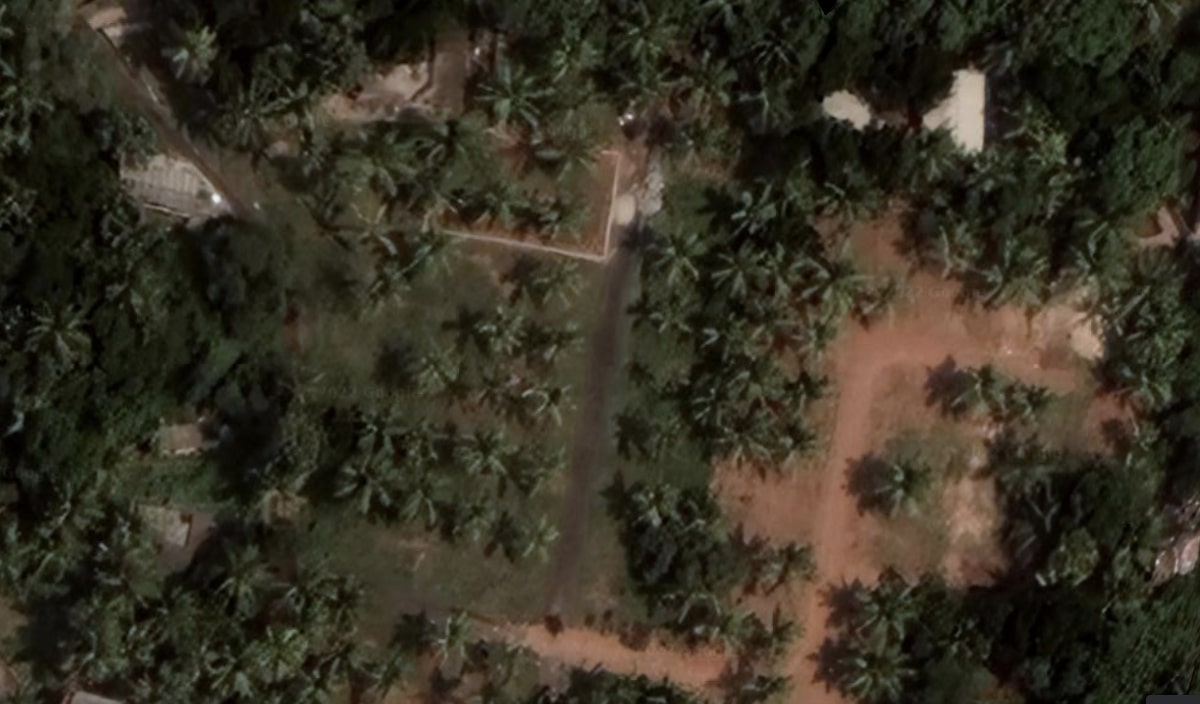coconut: (989, 439, 1059, 505), (869, 449, 934, 520), (334, 453, 400, 521), (661, 565, 723, 634), (938, 360, 1002, 423), (707, 244, 770, 304), (346, 130, 405, 194), (807, 256, 867, 317), (677, 373, 736, 435), (482, 69, 544, 128), (855, 584, 914, 645), (337, 206, 396, 265), (816, 167, 875, 225), (522, 378, 585, 431), (423, 120, 477, 180), (739, 608, 800, 661), (629, 477, 686, 530), (548, 33, 605, 86), (844, 651, 907, 698), (711, 413, 765, 467), (522, 264, 585, 310), (712, 310, 765, 362), (990, 253, 1042, 306), (426, 612, 479, 664), (314, 639, 363, 695), (406, 218, 458, 270), (359, 264, 411, 314), (519, 444, 570, 494), (461, 432, 509, 485), (773, 537, 819, 592), (472, 184, 528, 229), (655, 228, 703, 280), (617, 29, 674, 72), (645, 287, 695, 335), (726, 185, 774, 235), (513, 513, 559, 565), (411, 354, 465, 397), (445, 500, 494, 546), (772, 413, 813, 467), (1011, 381, 1054, 431), (533, 197, 583, 238), (357, 660, 407, 701), (932, 232, 978, 276), (324, 585, 360, 640), (407, 484, 443, 534), (487, 313, 523, 356), (479, 374, 509, 415), (548, 327, 582, 361)
